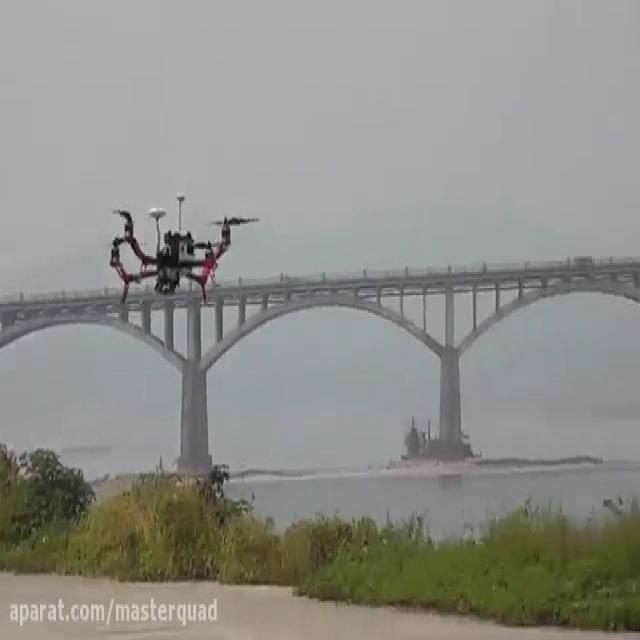drone: (101, 187, 264, 311)
